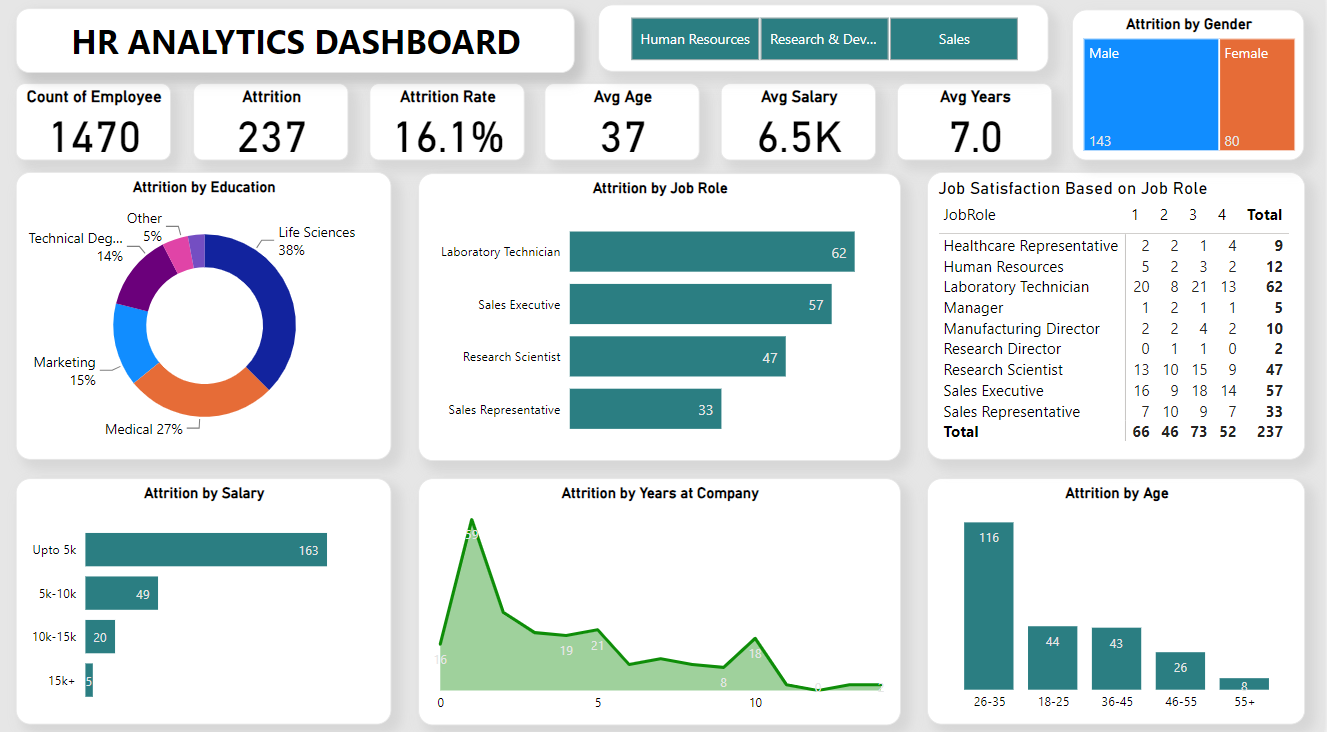

What the dashboard file says about the page in this screenshot:
{"tool":"powerbi","page":{"name":"Page 1","canvas":[1280,720],"ordinal":0},"visuals":[{"type":"card","title":"Count of Employee","fields":{"Values":["CountNonNull(HR_Analytics.EmpID)"]},"box":[18.2,87.9,150,74.2],"z":0},{"type":"card","title":"Attrition","fields":{"Values":["Sum(HR_Analytics.AttritionColumn)"]},"box":[189.3,87.9,150,74.2],"z":1000},{"type":"card","title":"Attrition Rate","fields":{"Values":["HR_Analytics.AttritionRate"]},"box":[359,87.9,150,74.2],"z":2000},{"type":"card","title":"Avg Age","fields":{"Values":["Avg(HR_Analytics.Age)"]},"box":[528.7,87.9,150,74.2],"z":3000},{"type":"card","title":"Avg Salary","fields":{"Values":["Avg(HR_Analytics.MonthlyIncome)"]},"box":[698.3,87.9,150,74.2],"z":4000},{"type":"card","title":"Avg Years","fields":{"Values":["Avg(HR_Analytics.YearsAtCompany)"]},"box":[868,87.9,150,74.2],"z":5000},{"type":"donutChart","title":"Attrition by Education","fields":{"Category":["HR_Analytics.EducationField"],"Y":["Sum(HR_Analytics.AttritionColumn)"]},"box":[18.2,174.2,362,277.2],"z":6000},{"type":"columnChart","title":"Attrition by Age","fields":{"Category":["HR_Analytics.AgeGroup"],"Y":["Sum(HR_Analytics.AttritionColumn)"]},"box":[896.8,469.6,365.1,237.8],"z":7000},{"type":"pivotTable","title":"Job Satisfaction Based on Job Role","fields":{"Rows":["HR_Analytics.JobRole"],"Columns":["HR_Analytics.JobSatisfaction"],"Values":["Sum(HR_Analytics.AttritionColumn)"]},"box":[896.8,174.2,365.1,277.2],"z":8000},{"type":"barChart","title":"Attrition by Salary","fields":{"Category":["HR_Analytics.SalarySlab"],"Y":["Sum(HR_Analytics.AttritionColumn)"]},"box":[18.2,469.6,362,237.8],"z":9000},{"type":"barChart","title":"Attrition by Job Role","fields":{"Category":["HR_Analytics.JobRole"],"Y":["Sum(HR_Analytics.AttritionColumn)"]},"box":[406.7,174.7,465.3,277.3],"z":10000},{"type":"areaChart","title":"Attrition by Years at Company ","fields":{"Category":["HR_Analytics.YearsAtCompany"],"Y":["Sum(HR_Analytics.AttritionColumn)"]},"box":[406.7,469.3,465.3,238.7],"z":11000},{"type":"treemap","title":"Attrition by Gender","fields":{"Group":["HR_Analytics.Gender"],"Values":["Sum(HR_Analytics.AttritionColumn)"]},"box":[1037.6,16.7,224.2,145.4],"z":12000},{"type":"slicer","fields":{"Values":["HR_Analytics.Department"]},"box":[580.2,12.1,434.7,65.1],"z":13000},{"type":"textbox","box":[18.2,15.1,539.3,62.1],"z":14000}]}

Visuals, with their boxes in screenshot pixels (x1, y1, x2, y2), scaled from the page's 1280x720 canvas onto the 1327x732 screenshot:
"Count of Employee" card: box=[19, 89, 174, 165]
"Attrition" card: box=[196, 89, 352, 165]
"Attrition Rate" card: box=[372, 89, 528, 165]
"Avg Age" card: box=[548, 89, 704, 165]
"Avg Salary" card: box=[724, 89, 879, 165]
"Avg Years" card: box=[900, 89, 1055, 165]
"Attrition by Education" donutChart: box=[19, 177, 394, 459]
"Attrition by Age" columnChart: box=[930, 477, 1308, 719]
"Job Satisfaction Based on Job Role" pivotTable: box=[930, 177, 1308, 459]
"Attrition by Salary" barChart: box=[19, 477, 394, 719]
"Attrition by Job Role" barChart: box=[422, 178, 904, 460]
"Attrition by Years at Company " areaChart: box=[422, 477, 904, 720]
"Attrition by Gender" treemap: box=[1076, 17, 1308, 165]
slicer - HR_Analytics.Department: box=[602, 12, 1052, 78]
textbox: box=[19, 15, 578, 78]
